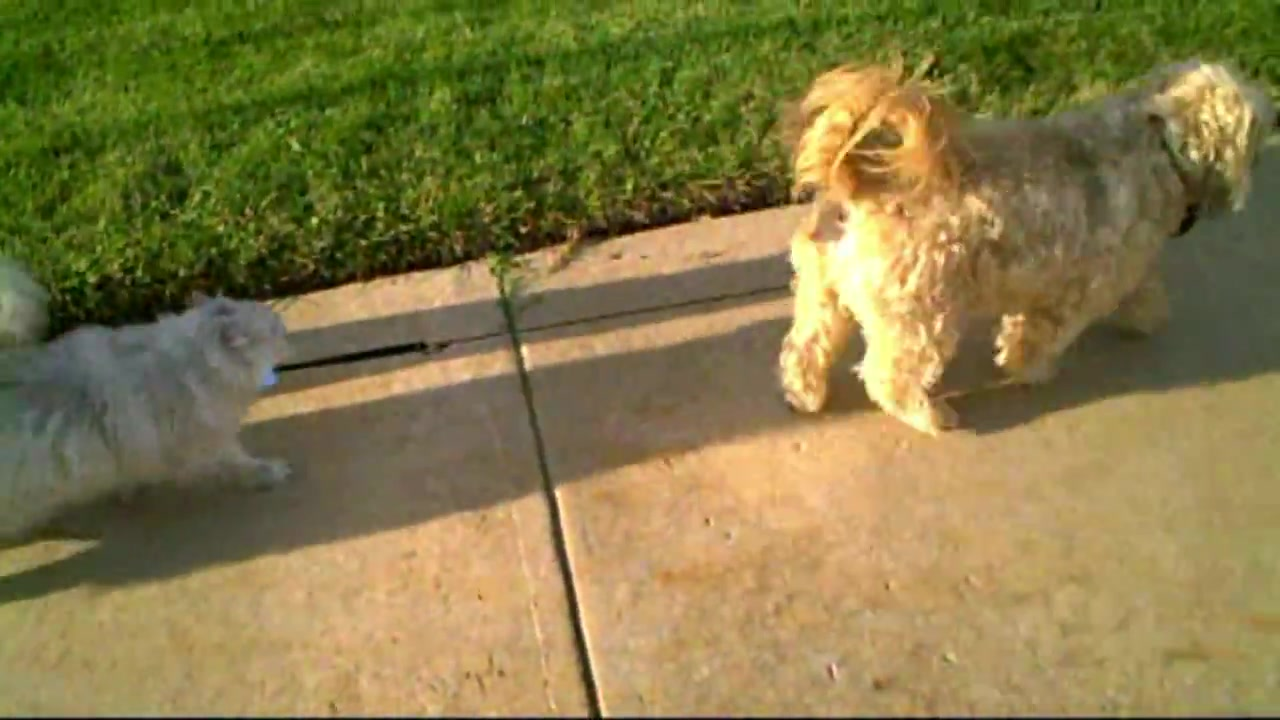dog: (782, 53, 1278, 438)
